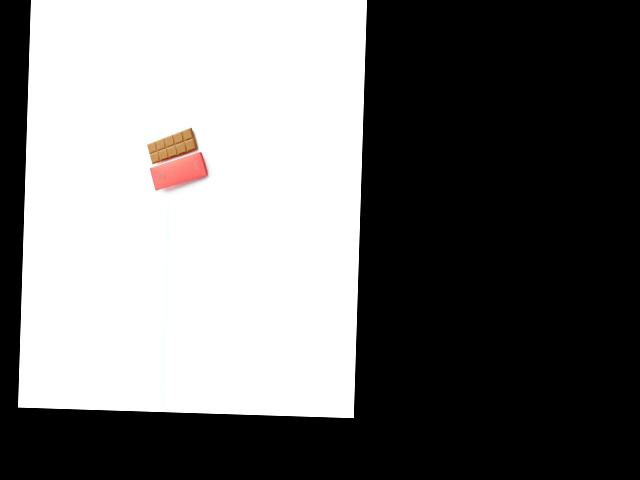chocolate: (145, 126, 200, 168)
